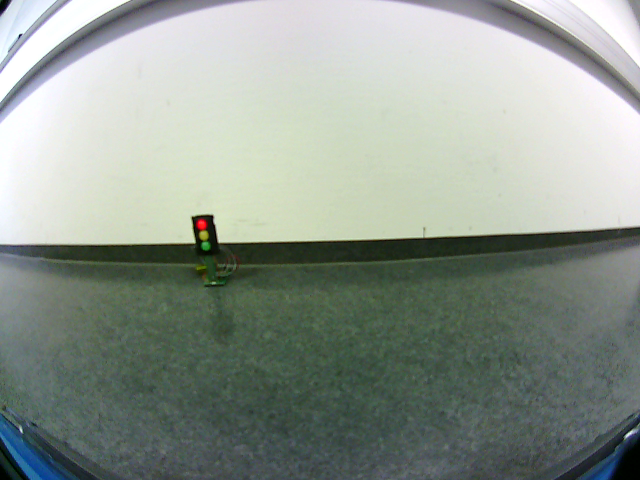red trafficlight: (193, 217, 215, 256)
